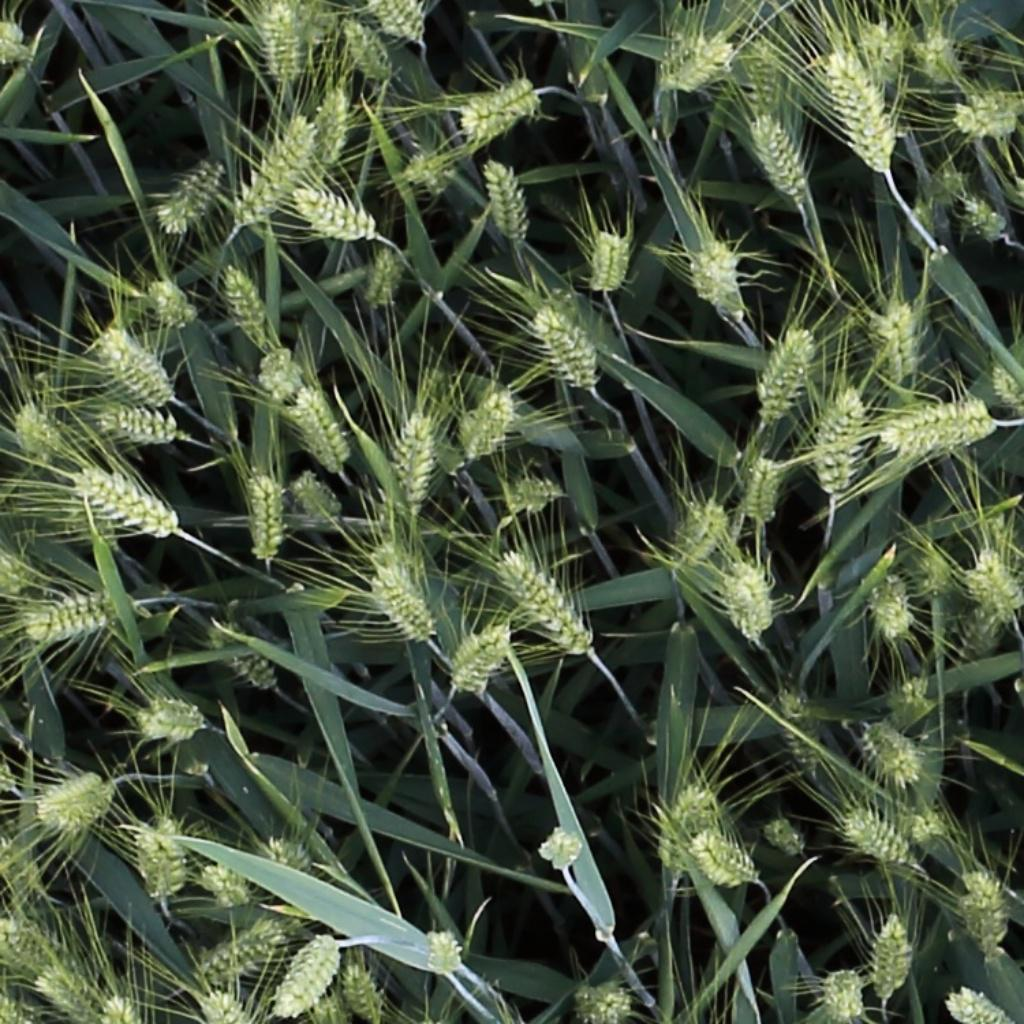0-0: (817, 45, 900, 180), (230, 107, 319, 232), (502, 551, 592, 653), (872, 393, 1001, 463), (26, 580, 127, 657), (76, 468, 180, 541), (231, 0, 319, 85), (372, 539, 441, 645), (130, 801, 196, 907), (651, 770, 720, 866), (389, 394, 442, 517), (937, 163, 1011, 246), (274, 929, 342, 1018), (99, 324, 172, 406), (536, 303, 599, 389), (39, 763, 117, 832), (759, 324, 815, 420), (819, 385, 865, 501), (161, 154, 228, 233), (756, 107, 811, 203), (293, 386, 350, 475), (207, 622, 280, 691), (222, 259, 275, 353), (200, 925, 283, 983), (681, 237, 745, 312), (450, 623, 513, 699), (861, 910, 916, 997), (683, 829, 760, 887), (779, 686, 827, 779), (670, 500, 733, 568), (460, 385, 514, 464), (338, 13, 394, 88), (881, 298, 928, 386), (296, 185, 376, 236), (726, 557, 775, 640), (840, 805, 909, 863), (99, 408, 186, 453), (403, 147, 470, 204), (486, 154, 527, 245), (457, 88, 533, 137), (962, 869, 1006, 951), (245, 469, 284, 561), (970, 554, 1018, 628), (667, 39, 734, 91), (955, 82, 1024, 132), (865, 724, 922, 783), (853, 21, 910, 80), (899, 193, 949, 260), (131, 699, 206, 743), (586, 222, 635, 289), (36, 970, 96, 1024), (314, 81, 349, 170), (342, 955, 387, 1024), (912, 28, 968, 83), (744, 40, 786, 113), (865, 572, 914, 633), (260, 342, 304, 406), (367, 243, 406, 314), (292, 471, 344, 522), (0, 921, 51, 973), (14, 399, 54, 465), (531, 826, 590, 869), (148, 274, 193, 329), (510, 474, 568, 516), (749, 451, 780, 529), (940, 985, 1003, 1023), (580, 975, 631, 1021), (199, 866, 252, 910), (896, 670, 941, 721), (915, 547, 959, 598), (372, 1, 425, 43), (987, 357, 1024, 417), (828, 966, 866, 1022), (427, 921, 460, 979), (901, 809, 951, 845), (765, 820, 809, 858), (267, 835, 313, 870), (203, 987, 245, 1024), (0, 16, 28, 61), (102, 989, 136, 1024), (1, 561, 28, 597)
